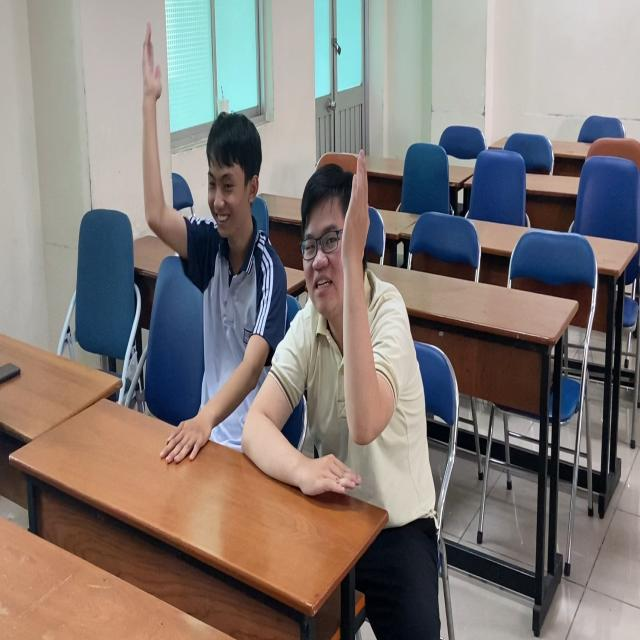raise_hand: (133, 16, 274, 412), (299, 150, 423, 482)
